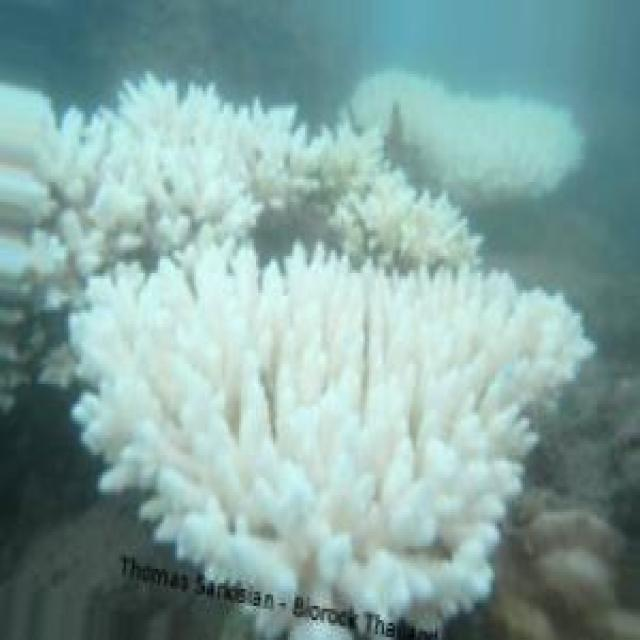bleached coral: (72, 248, 582, 615), (41, 75, 311, 272), (352, 70, 581, 203), (331, 150, 479, 271), (151, 449, 314, 549), (1, 83, 55, 356), (474, 276, 591, 398), (90, 273, 156, 461), (252, 151, 354, 259), (147, 296, 247, 401), (418, 117, 576, 179), (92, 137, 215, 213), (326, 432, 414, 535), (273, 319, 343, 407), (386, 307, 450, 395), (28, 125, 64, 188)
